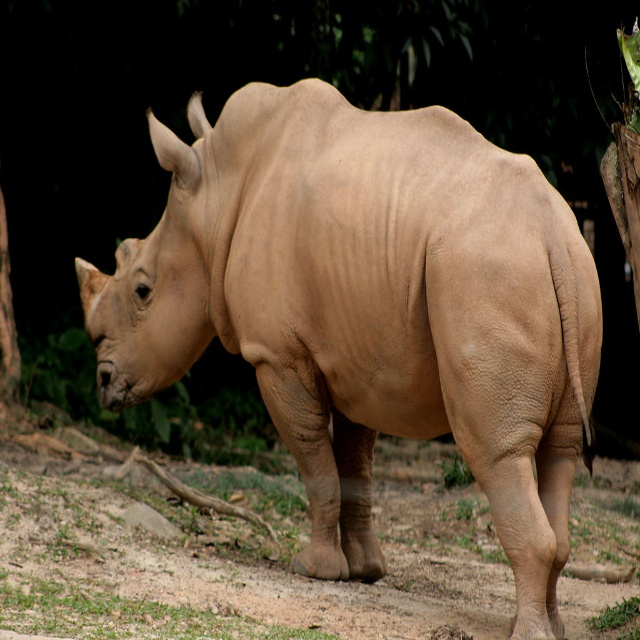Rhinoceros: (67, 61, 603, 639)
